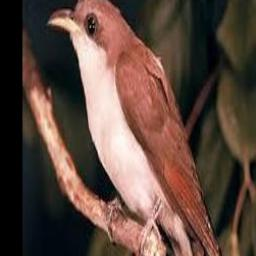Cuckoo: (47, 0, 232, 256)
